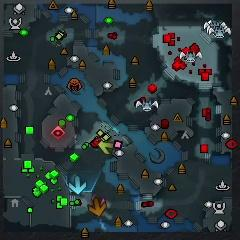x1: (91, 195, 106, 205)
x2: (99, 138, 116, 155)
x3: (69, 176, 86, 193)
x5: (88, 198, 106, 217)
